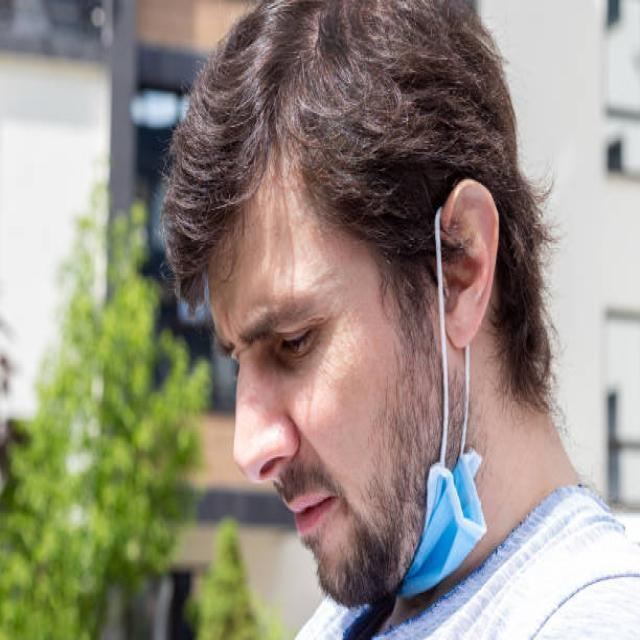hairnet: (236, 395, 489, 600)
